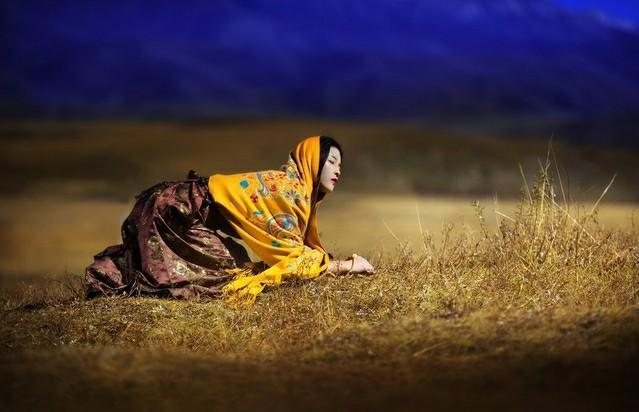Fall-Detected: (58, 129, 381, 311)
